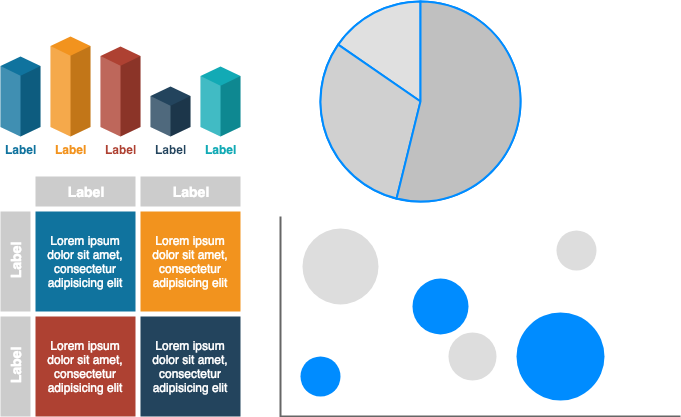

This screenshot's page, from the dashboard's own definition file:
{"tool":"tableau","page":{"name":"Error_Metrics","canvas":[1024,768],"ordinal":1},"visuals":[{"type":"worksheet","title":"Error_information","mark":"Circle","box":[8,8,424,752]},{"type":"worksheet","title":"Error_Category","mark":"Automatic","rows":["Number of Records"],"cols":["error_code","error_code_description"],"box":[432,8,424,752]},{"type":"legend","title":"Error_information","param":"[federated.07tf3w20wsfq4d14qj8jr1fr6mw1].[none:error_category:nk]","box":[856,8,160,106]},{"type":"legend","title":"Error_information","param":"[federated.07tf3w20wsfq4d14qj8jr1fr6mw1].[sum:Number of Records:qk]","box":[856,114,160,22]},{"type":"legend","title":"Error_Category","param":"[federated.07tf3w20wsfq4d14qj8jr1fr6mw1].[none:error_category:nk]","box":[856,136,160,106]}]}

Visuals, with their boxes on the page's 1024x768 design canvas (x1, y1, x2, y2). These are canvas units, not pixel positions in the 681x417 screenshot, which may show the page scaled, cropped or inside an application window:
"Error_information" worksheet (Circle marks): [8,8,432,760]
"Error_Category" worksheet: [432,8,856,760]
"Error_information" legend: [856,8,1016,114]
"Error_information" legend: [856,114,1016,136]
"Error_Category" legend: [856,136,1016,242]
